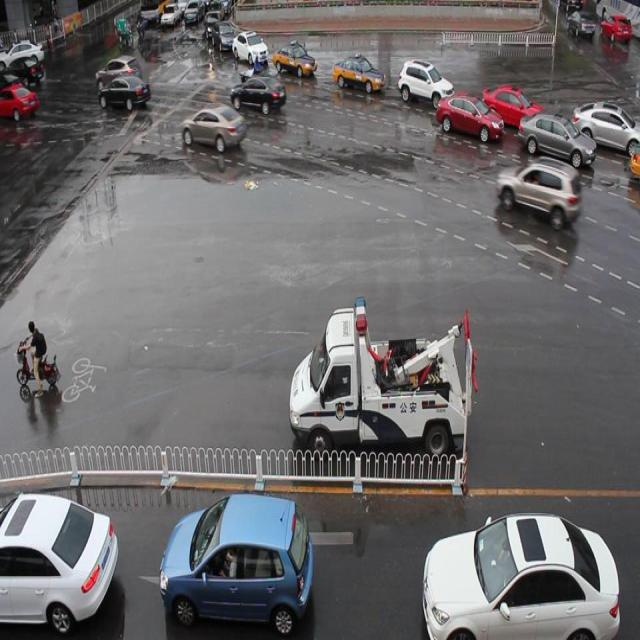bus: (289, 292, 477, 463)
car: (420, 511, 620, 640), (162, 492, 314, 640), (1, 490, 120, 630), (495, 153, 582, 233), (518, 107, 594, 170), (571, 94, 640, 160), (436, 86, 503, 146), (482, 75, 542, 134), (182, 103, 246, 157), (398, 54, 453, 112), (331, 52, 386, 98), (228, 75, 286, 116), (274, 39, 318, 82), (233, 26, 268, 70), (214, 19, 238, 54)
